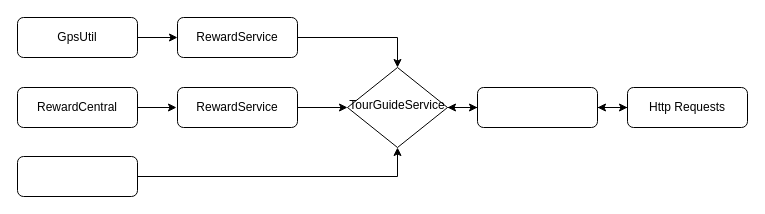
Image size: 765x214. Some labels were removed from this diagram. The centre of each missing label's shape, as x and y in pixels:
"TourGuideController" belongs at point 537,107.
"TripPricer" belongs at point 77,176.
